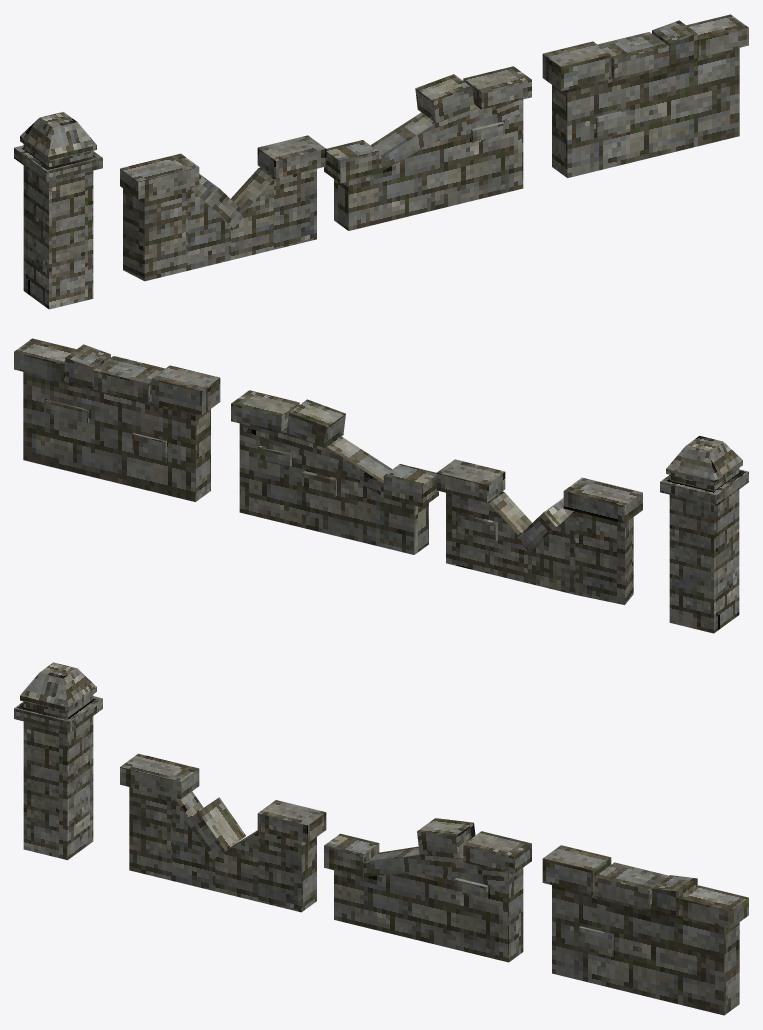
Rendered from stone_wall.fbx.
3 views of the same model, one above another, from view 1: azimuth 30°, elevation 25°; view 2: azimuth 150°, elevation 25°; view 3: azimuth 330°, elevation 25° (orthographic).
Parts seen in each view (by area): view 1: murek_2, murek_1, murek_3, lacze; view 2: murek_2, murek_1, murek_3, lacze; view 3: murek_2, murek_1, murek_3, lacze.
Boxes of the visible parts, box(x1,y1,x2,y2) form: murek_2: box(542, 14, 748, 177); murek_1: box(324, 66, 531, 230); murek_3: box(120, 135, 326, 281); lacze: box(14, 112, 102, 309); murek_2: box(14, 338, 220, 501); murek_1: box(231, 390, 438, 554); murek_3: box(436, 459, 642, 604); lacze: box(660, 436, 748, 633); murek_2: box(542, 845, 748, 1015); murek_1: box(324, 818, 531, 962); murek_3: box(120, 753, 326, 912); lacze: box(14, 662, 102, 860).
Size of the model in its own units: 755 by 178 by 59.92.
